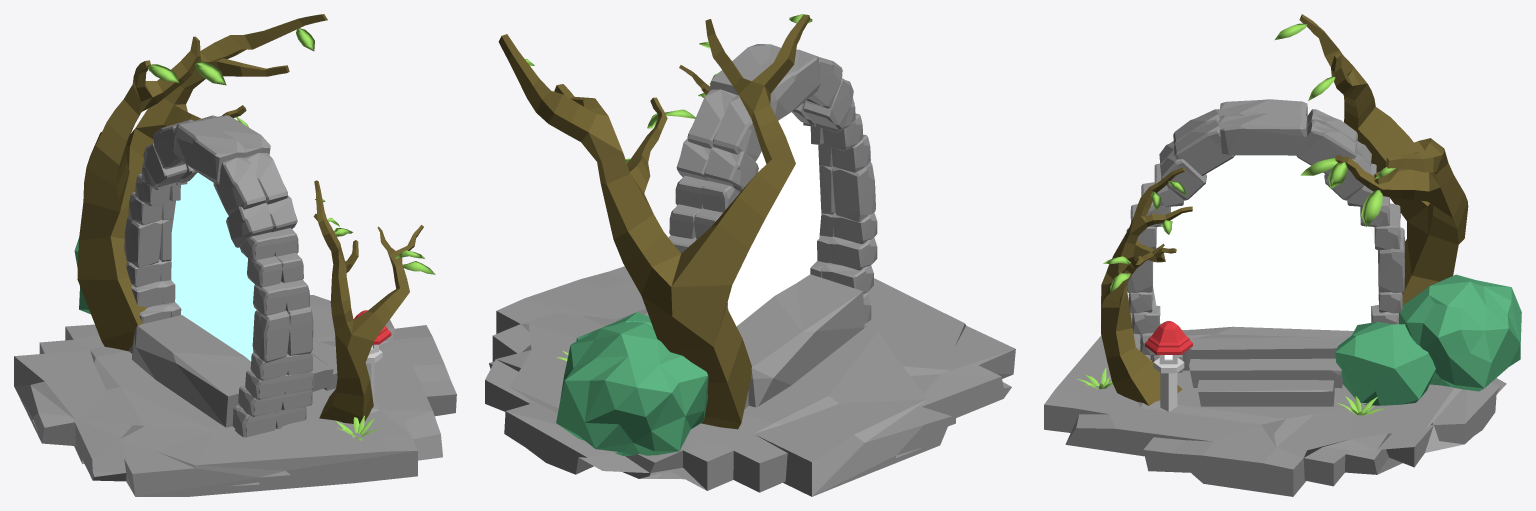
The model's file is Hub_Portal.fbx.
3 views of the same model, side by side, from view 1: azimuth 30°, elevation 25°; view 2: azimuth 150°, elevation 25°; view 3: azimuth 270°, elevation 25° (orthographic). The views are drawn at different scales.
Parts seen in each view (by area): view 1: Cylinder, Cube.066, Cube.015, Fläche.036, Cube.104, Cube.007, Cube.006; view 2: Cylinder, Cube.015, Cube.066, Icosphere.009, Cube.104, Fläche.036; view 3: Cylinder, Fläche.036, Cube.066, Cube.015, Icosphere.009, Cube.006, Cube.007, Icosphere.008, Cube.104, Cylinder.002, Cube.008.
Part boxes in pixels (x1,y1,x2,y2): Cylinder: [14, 295, 456, 496]; Cube.066: [124, 115, 313, 437]; Cube.015: [77, 14, 327, 351]; Fläche.036: [171, 172, 256, 361]; Cube.104: [131, 315, 250, 427]; Cube.007: [313, 180, 423, 424]; Cube.006: [311, 339, 337, 391]; Cylinder: [485, 266, 1015, 496]; Cube.015: [498, 14, 810, 429]; Cube.066: [668, 44, 877, 409]; Icosphere.009: [556, 321, 708, 455]; Cube.104: [736, 274, 864, 407]; Fläche.036: [727, 112, 821, 326]; Cylinder: [1044, 313, 1506, 496]; Fläche.036: [1153, 155, 1378, 330]; Cube.066: [1126, 99, 1404, 372]; Cube.015: [1299, 14, 1468, 305]; Icosphere.009: [1399, 274, 1521, 391]; Cube.006: [1185, 337, 1348, 406]; Cube.007: [1101, 167, 1192, 405]; Icosphere.008: [1335, 322, 1435, 405]; Cube.104: [1181, 326, 1353, 370]; Cylinder.002: [1145, 321, 1192, 354]; Cube.008: [1160, 373, 1177, 411].
Bounding box in the file's own units: 686 × 602 × 739.
